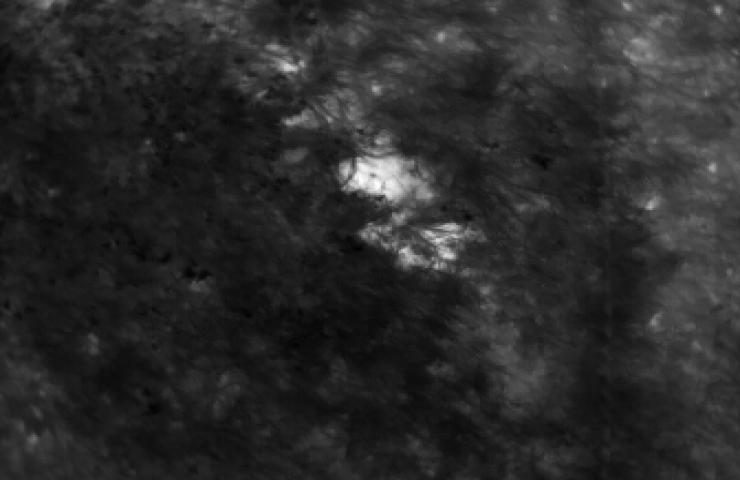landmines: (335, 154, 433, 207)
